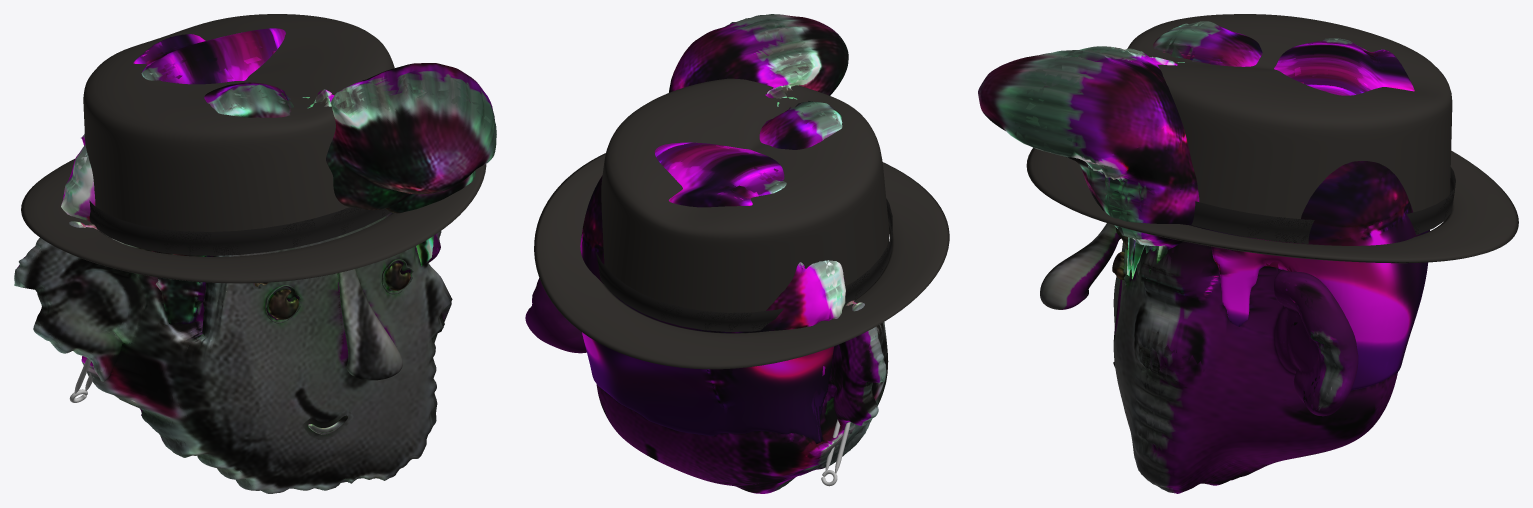
File: face-riso.glb
3 renders of one model, left to right at view 1: azimuth 30°, elevation 25°; view 2: azimuth 150°, elevation 25°; view 3: azimuth 270°, elevation 25°, orthographic. The views are drawn at different scales.
Parts seen in each view (by area): view 1: Skin, Hat, Hair, HatBand, EyeL; view 2: Hat, Hair, Skin, HatBand, Pin; view 3: Hair, Hat, Skin, HatBand.
Part boxes in pixels (x1,y1,x2,y2): Skin: [14, 212, 452, 493]; Hat: [21, 14, 486, 283]; Hair: [61, 28, 496, 324]; HatBand: [89, 200, 391, 255]; EyeL: [268, 289, 298, 319]; Hat: [534, 78, 949, 369]; Hair: [580, 14, 848, 443]; Skin: [525, 278, 888, 493]; HatBand: [596, 198, 892, 331]; Pin: [821, 419, 850, 486]; Hair: [978, 21, 1429, 390]; Hat: [1026, 14, 1518, 263]; Skin: [1040, 223, 1397, 493]; HatBand: [1191, 167, 1455, 243].
Bounding box in the file's own units: 2.95 × 3.06 × 3.34.
11 materials, 7 textured.
